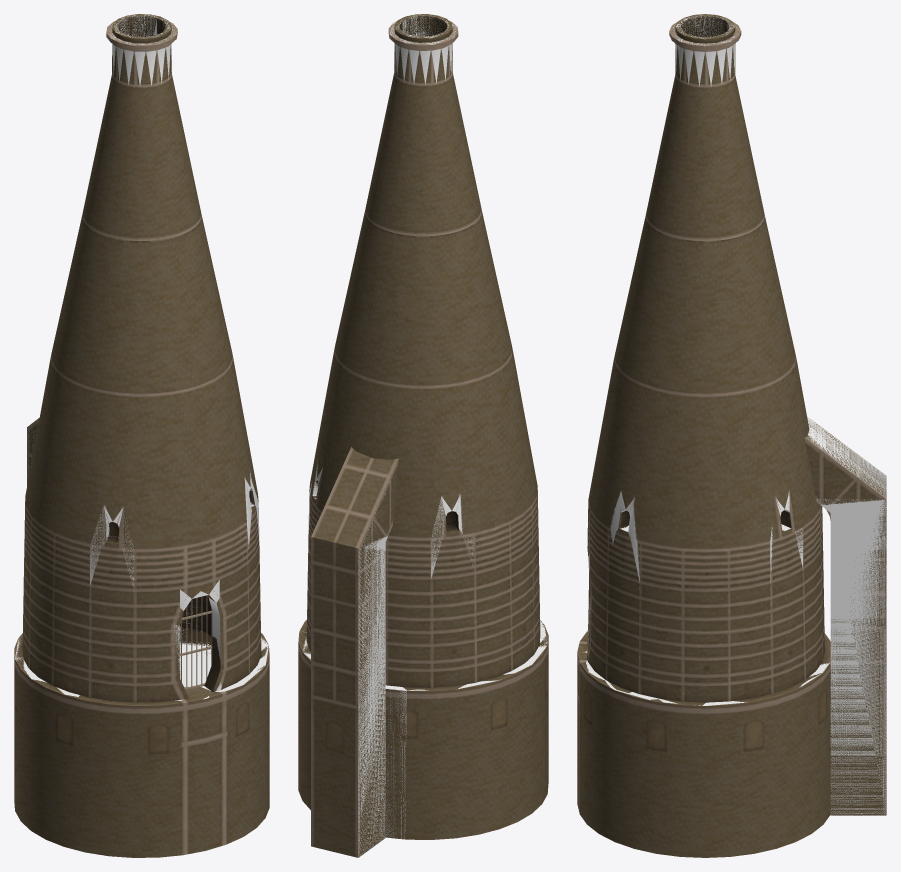
Rendered from objects_un_t09potterykiln01.gltf.
3 renders of one model, left to right at view 1: azimuth 30°, elevation 25°; view 2: azimuth 150°, elevation 25°; view 3: azimuth 270°, elevation 25°, orthographic. The views are drawn at different scales.
Parts seen in each view (by area): view 1: um_objects_un_t09potterykiln01_model_lod0Shape:objects_un_t0 (×2); view 2: um_objects_un_t09potterykiln01_model_lod0Shape:objects_un_t0 (×2); view 3: um_objects_un_t09potterykiln01_model_lod0Shape:objects_un_t0 (×2).
Part boxes in pixels (x1=…): um_objects_un_t09potterykiln01_model_lod0Shape:objects_un_t0 (×2): x1=14, y1=14, x2=269, y2=857; um_objects_un_t09potterykiln01_model_lod0Shape:objects_un_t0 (×2): x1=298, y1=14, x2=548, y2=857; um_objects_un_t09potterykiln01_model_lod0Shape:objects_un_t0 (×2): x1=577, y1=14, x2=886, y2=857.
Size of what is drawn, in the model's own units: 4.58 by 15.35 by 5.54.
2 materials, 1 textured.
